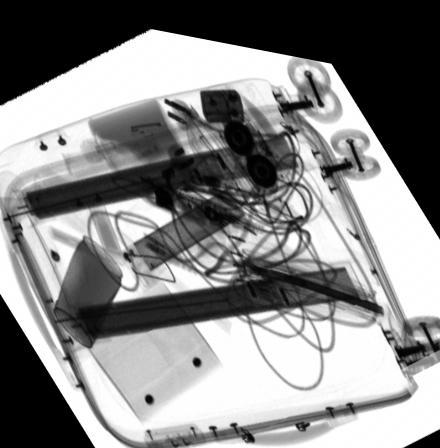Lighter: (200, 80, 245, 114)
